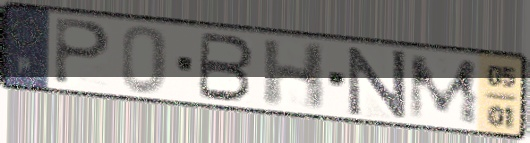0: (119, 23, 172, 97)
B: (194, 29, 257, 104)
H: (260, 37, 330, 112)
M: (406, 54, 482, 127)
N: (345, 46, 410, 121)
P: (50, 15, 114, 89)
